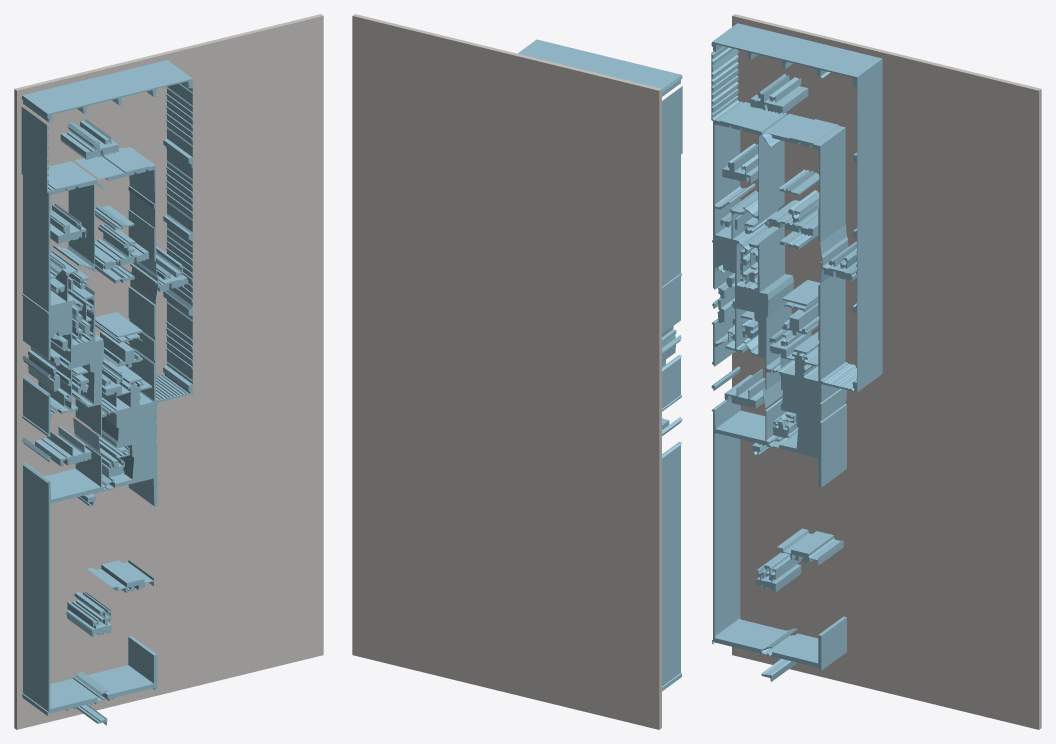
3 views of the same model, side by side, from view 1: azimuth 30°, elevation 25°; view 2: azimuth 150°, elevation 25°; view 3: azimuth 330°, elevation 25° (orthographic).
Visible parts, largest first — view 1: world; view 2: world; view 3: world.
Boxes of the visible parts, x1,y1,x2,y2 form: world: (14,14,323,729); world: (352,14,682,729); world: (711,14,1041,729).
Size of the model in its own units: 10.23 by 20.36 by 1.62.
